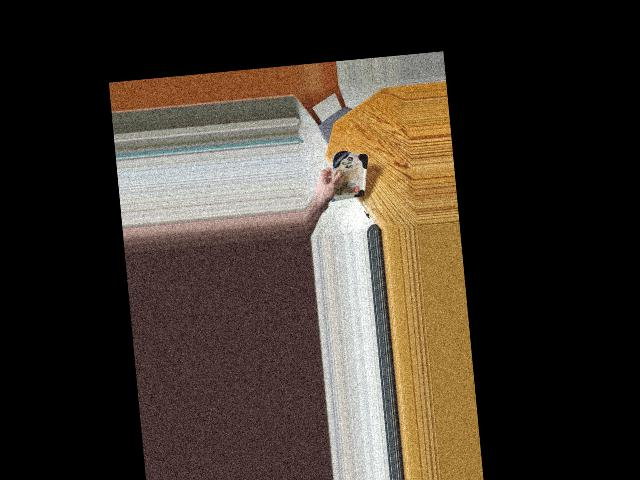cheese: (322, 147, 372, 203)
